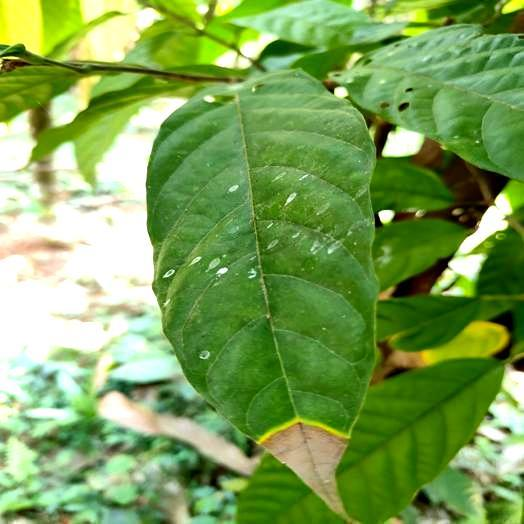Potassium: (147, 71, 377, 505)
